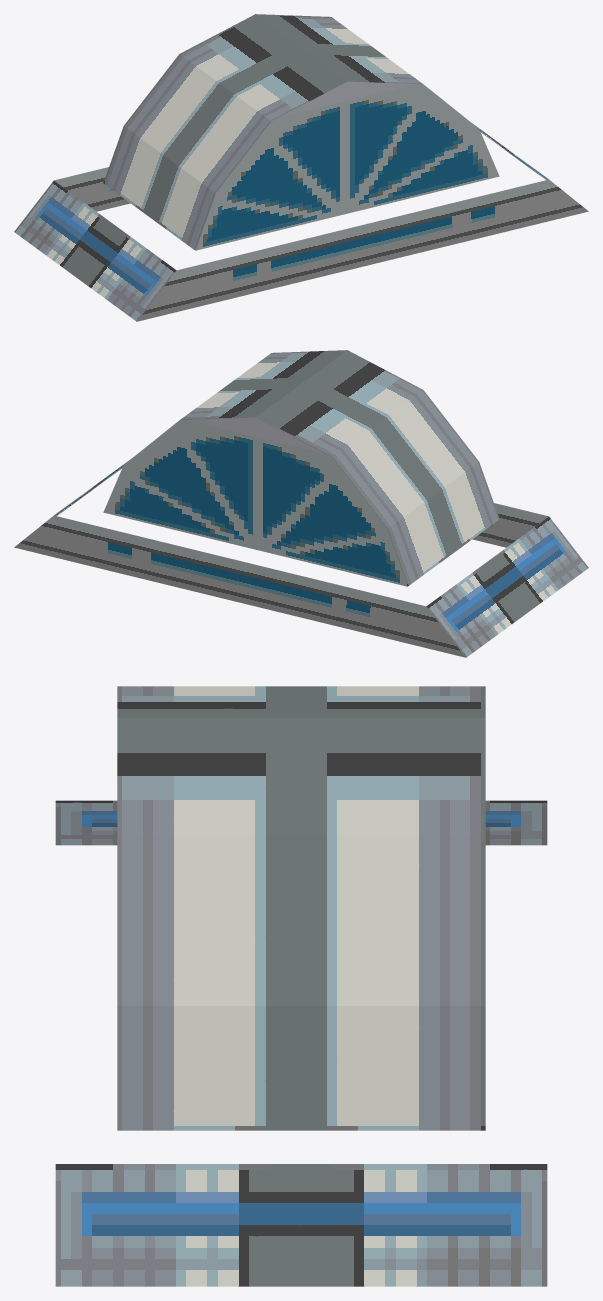
3 views of the same model, one above another, from view 1: azimuth 30°, elevation 25°; view 2: azimuth 150°, elevation 25°; view 3: azimuth 270°, elevation 25° (orthographic). The views are drawn at different scales.
Parts seen in each view (by area): view 1: obj-125; view 2: obj-125; view 3: obj-125.
Part boxes in pixels (x1,y1,x2,y2): obj-125: [14, 14, 588, 321]; obj-125: [14, 350, 588, 657]; obj-125: [55, 686, 547, 1286].
Bounding box in the file's own units: 5.22 × 1.92 × 2.46.
1 material, 1 textured.
